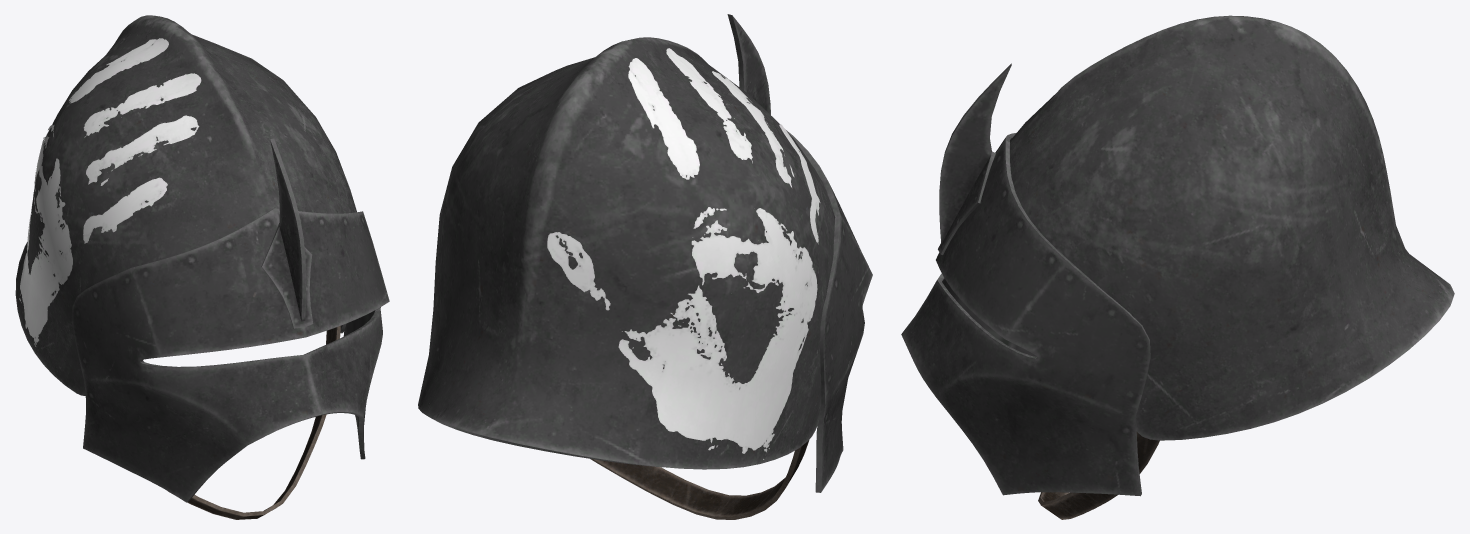
Rendered from sk_uruk_hai_helmet_spear_light_a3.fbx.
3 views of the same model, side by side, from view 1: azimuth 30°, elevation 25°; view 2: azimuth 150°, elevation 25°; view 3: azimuth 270°, elevation 25° (orthographic). The views are drawn at different scales.
Visible parts, largest first — view 1: sk_uruk_hai_helmet_spear_light_a3.2, sk_uruk_hai_helmet_spear_light_a3.0, sk_uruk_hai_helmet_spear_light_a3.1; view 2: sk_uruk_hai_helmet_spear_light_a3.2, sk_uruk_hai_helmet_spear_light_a3.0, sk_uruk_hai_helmet_spear_light_a3.1; view 3: sk_uruk_hai_helmet_spear_light_a3.2, sk_uruk_hai_helmet_spear_light_a3.1.
Part boxes in pixels (box(x1,y1,x2,y2)): sk_uruk_hai_helmet_spear_light_a3.2: box(15, 15, 389, 502); sk_uruk_hai_helmet_spear_light_a3.0: box(19, 38, 201, 351); sk_uruk_hai_helmet_spear_light_a3.1: box(168, 326, 340, 519); sk_uruk_hai_helmet_spear_light_a3.2: box(418, 14, 872, 492); sk_uruk_hai_helmet_spear_light_a3.0: box(547, 48, 820, 459); sk_uruk_hai_helmet_spear_light_a3.1: box(590, 440, 809, 519); sk_uruk_hai_helmet_spear_light_a3.2: box(901, 15, 1454, 496); sk_uruk_hai_helmet_spear_light_a3.1: box(1038, 431, 1159, 519).
Size of the model in its own units: 0.2086 by 0.3202 by 0.3161.
Materials: 3 (3 with a texture image).
